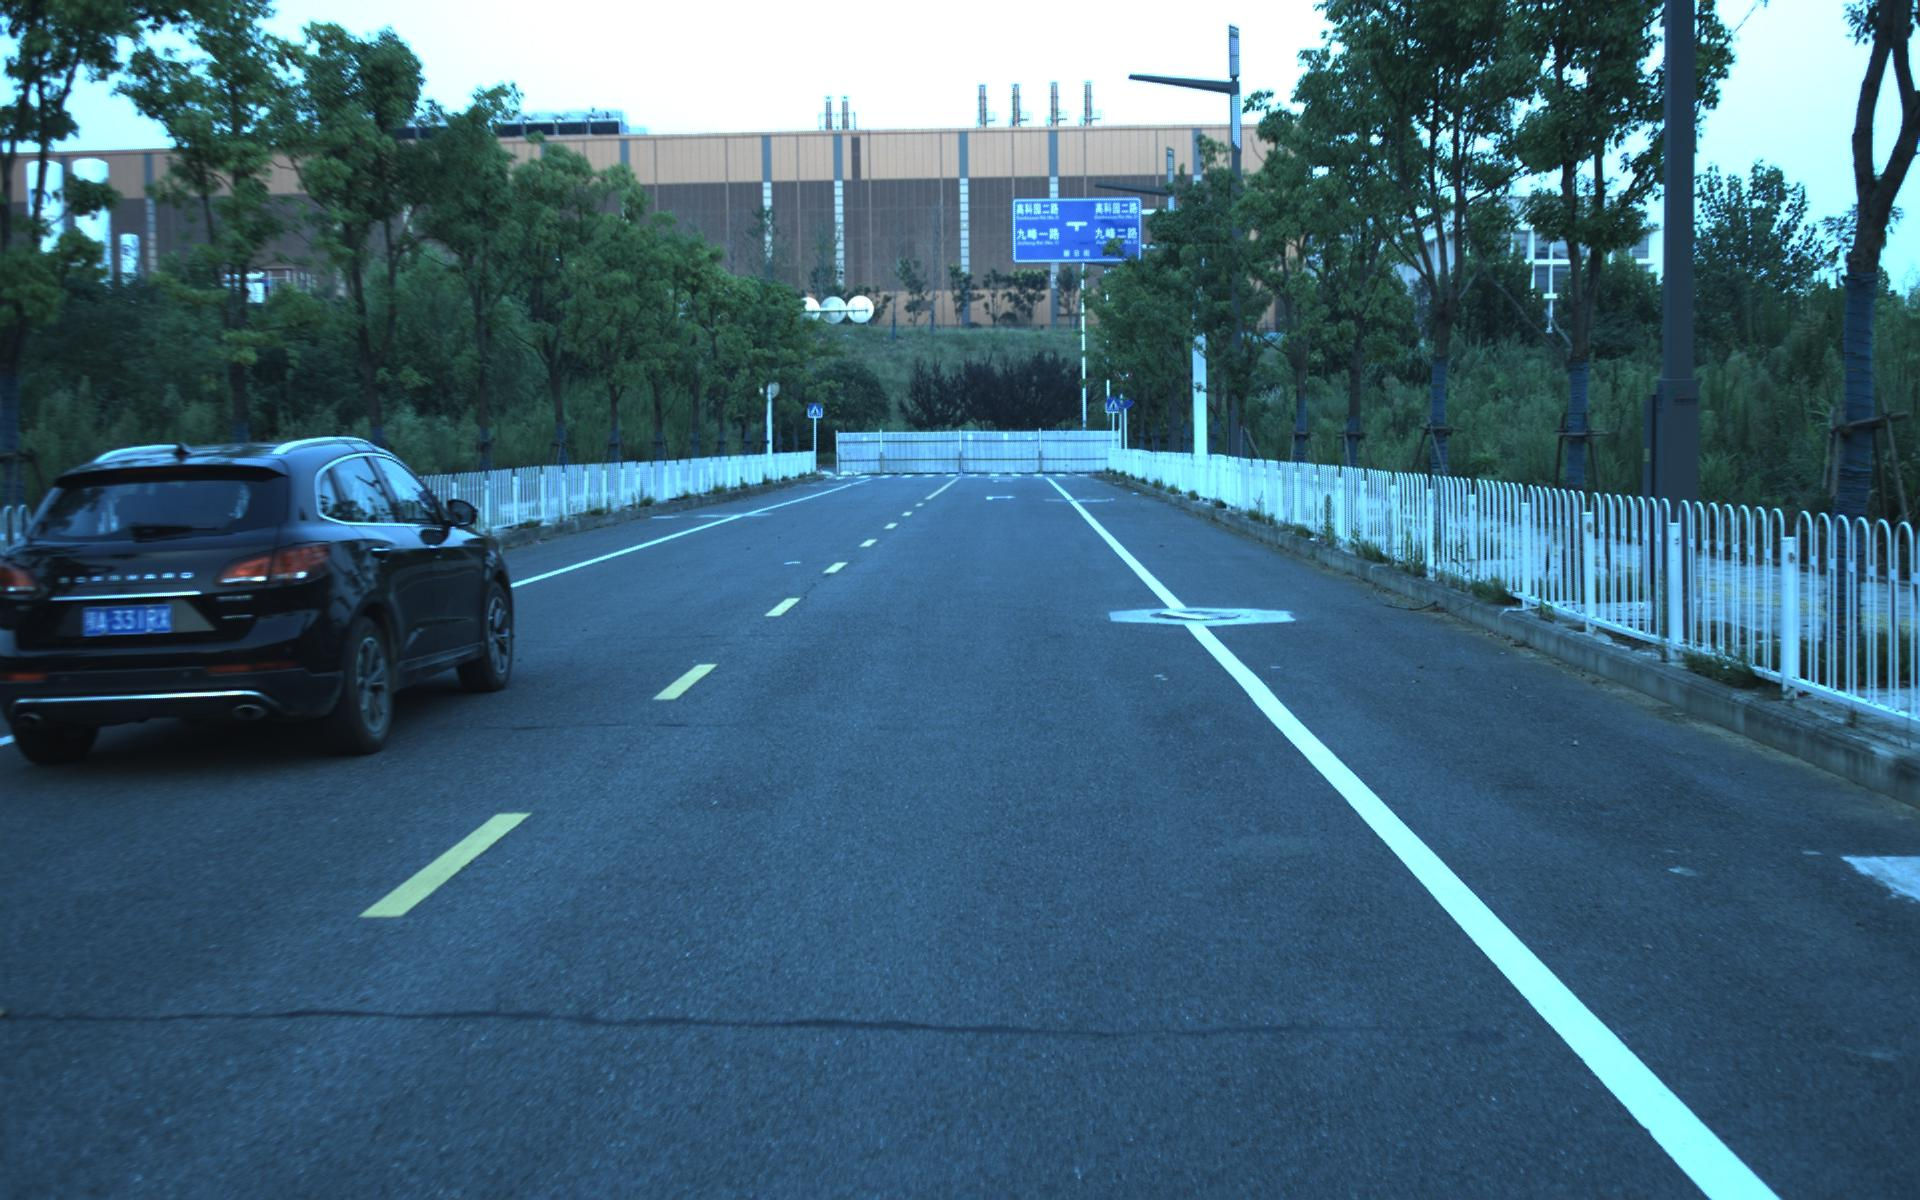Car: (1, 422, 525, 771)
